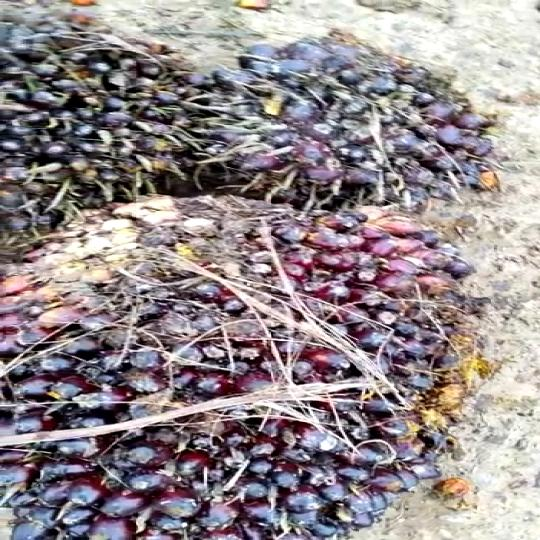kurang masak: (0, 196, 466, 540), (152, 1, 510, 227), (0, 0, 210, 217)
